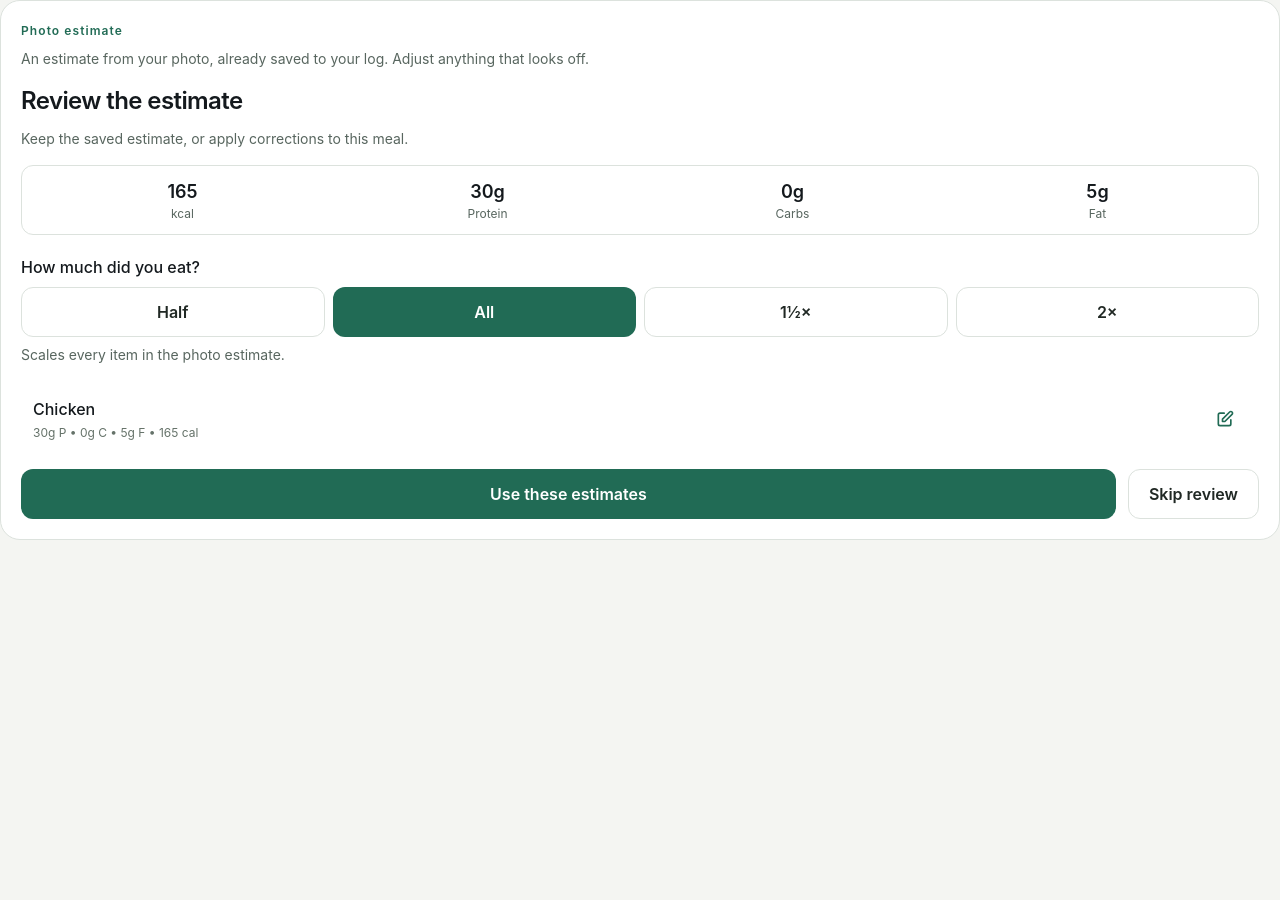
Scenario: PortionSelector › prevents accepting unfinished item edits and warns that totals have not been refined yet
Click the button named "Edit Chicken". click: (1225, 419)
box: [1203,397,1247,441]
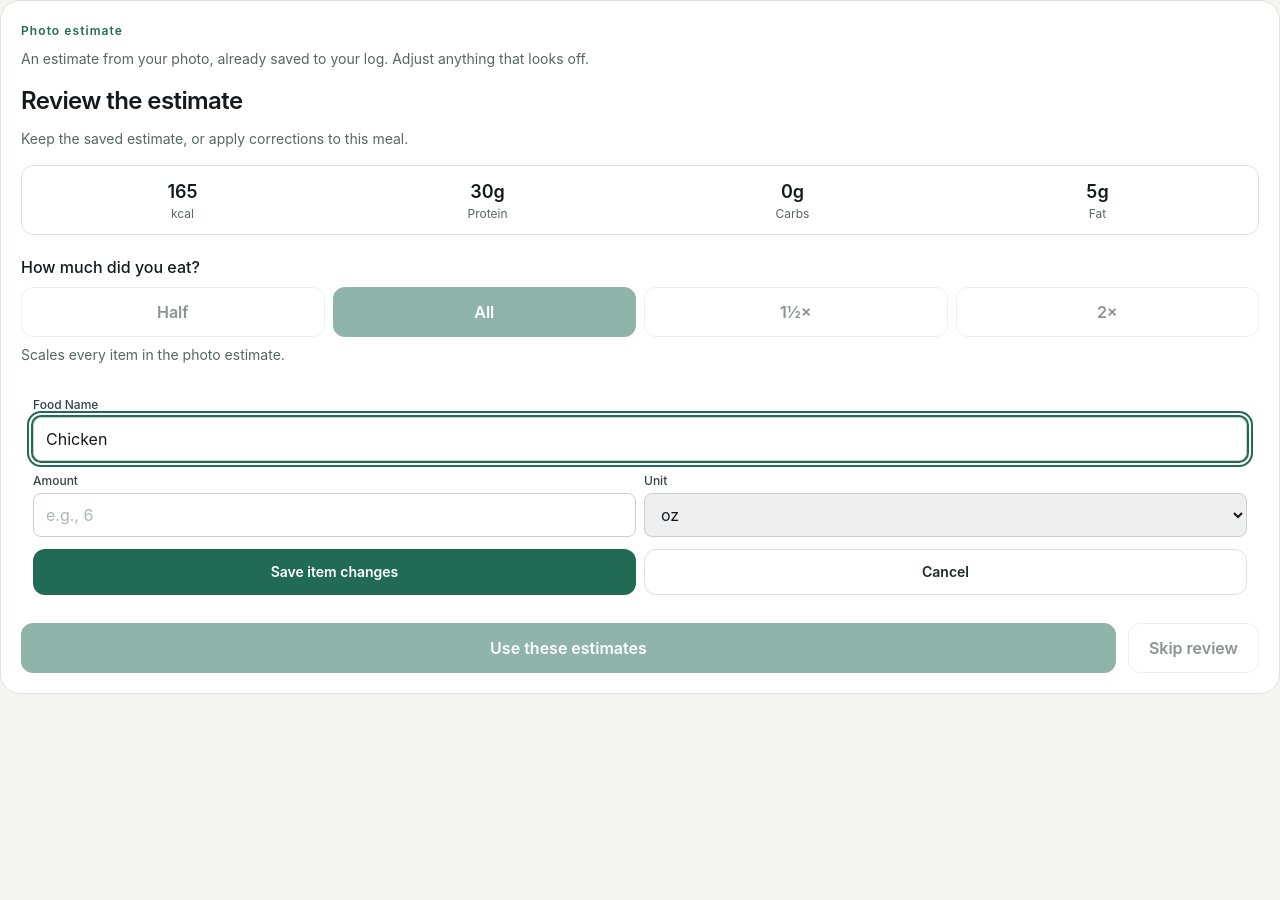
Now the button "Use these estimates" is disabled, box [21,623,1116,673]
Replace the text in the field labelled "Food Name" with "Turkey". click: (640, 439)
box: [33,417,1247,461]
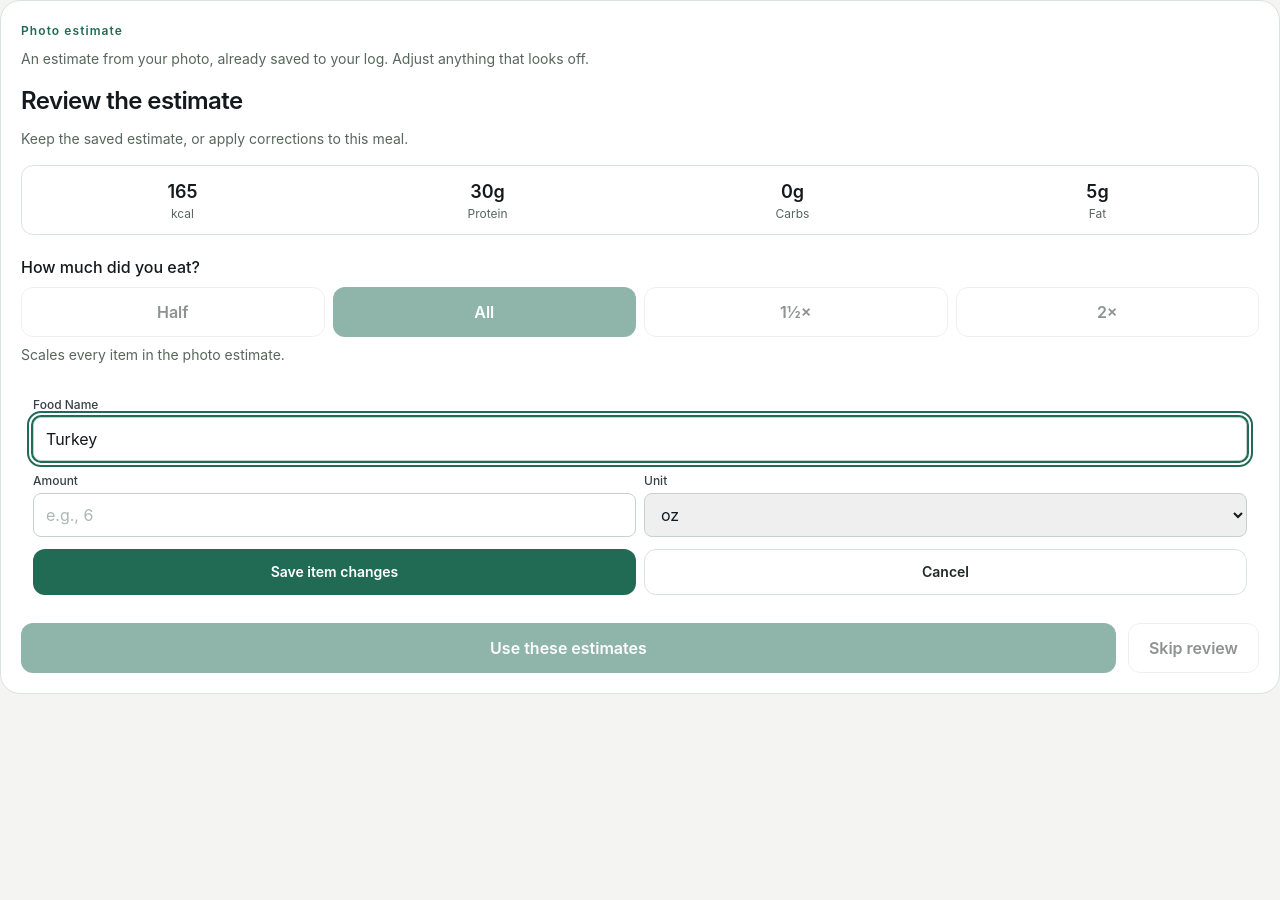
Click the button "Save item changes". click: (334, 572)
box: [33,549,636,595]
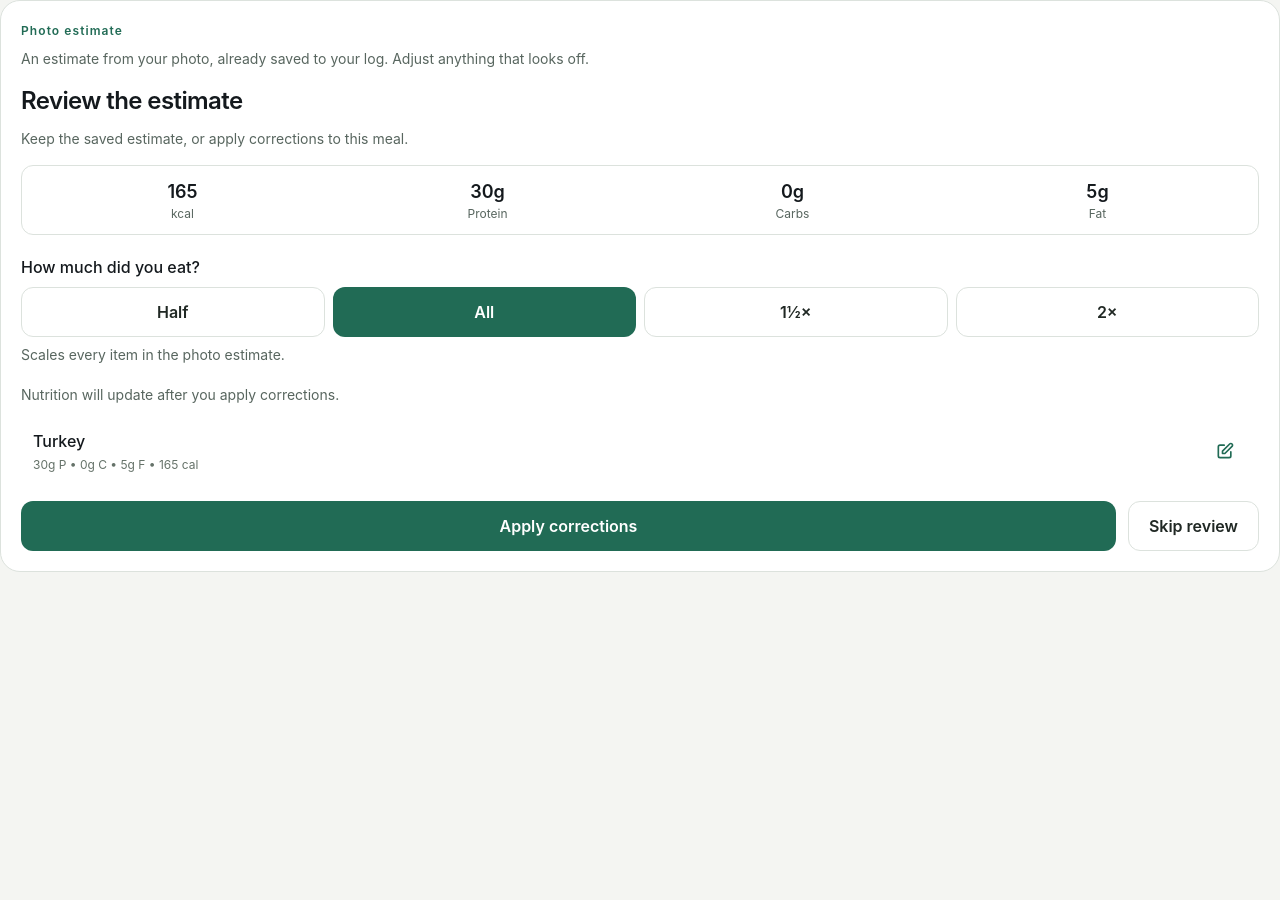
Now the text "Nutrition will update after you apply corrections." is shown, box [21,386,339,403]
